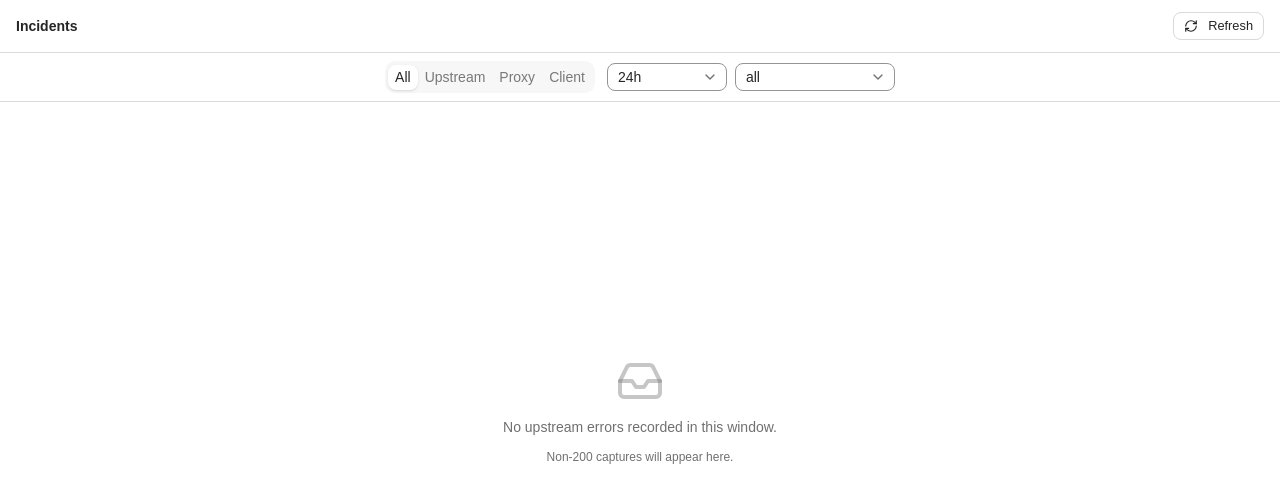
Test: IncidentsTab › shows Client-specific empty state when client sub-tab active
The width and height of the screenshot is (1280, 481).
What coordinates should you click on to do the following:
click the tab "Client"
I would click on:
 (567, 77)
Its box is [542,64,592,90].
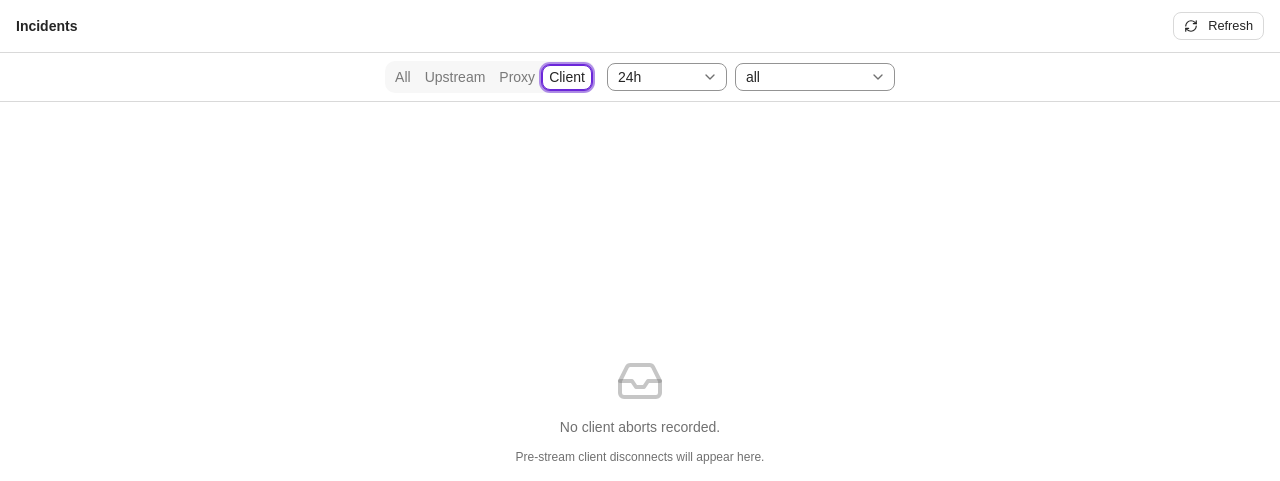
Result: the text "No client aborts recorded." is shown at [560,417,720,437]
